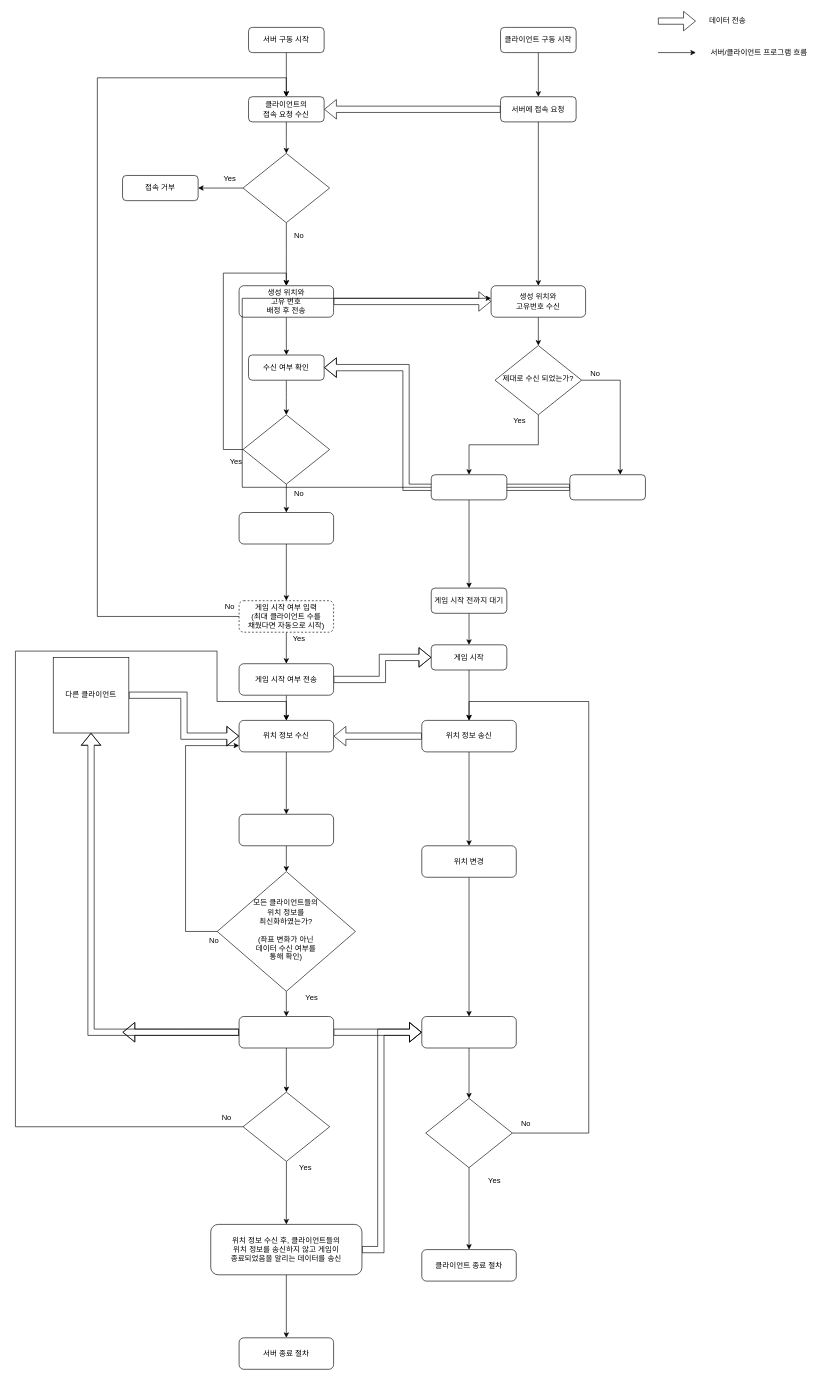
Image size: 827x1380. Some labels were removed from this diagram. The shapes that lost their labels are listed below. From the top down, each one's centre as x and y in pixels, then its label:
(x=286, y=188): 접속 가능한 최대 클라이언트 수를 넘었는가?
(x=286, y=449): 재전송 요청인가?
(x=469, y=487): 제대로 받았음을 전송
(x=607, y=487): 재전송 요청
(x=286, y=528): 클라이언트의 IP 및 포트 정보 저장
(x=286, y=830): 받은 클라이언트의 위치 정보 최신화
(x=286, y=1032): 최신화한 모든 클라이언트들의 위치 정보 송신
(x=468, y=1032): 최신화한 모든 클라이언트들의 위치 정보 수신
(x=286, y=1126): 게임 종료 조건을 감지했는가?
(x=468, y=1133): 수신한 데이터가 게임 종료를 뜻 하는가?
